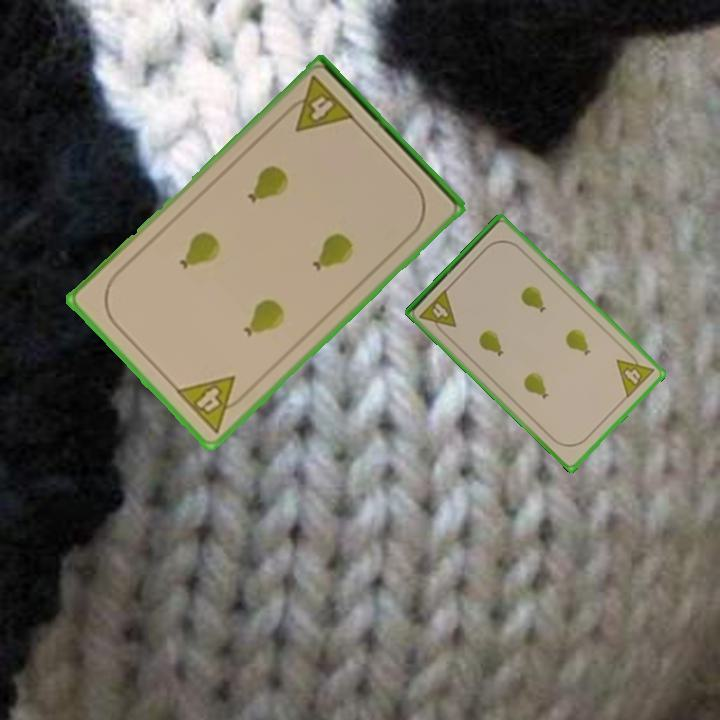4p: (172, 372, 252, 437), (279, 73, 358, 136), (613, 346, 657, 401), (416, 285, 459, 339)
